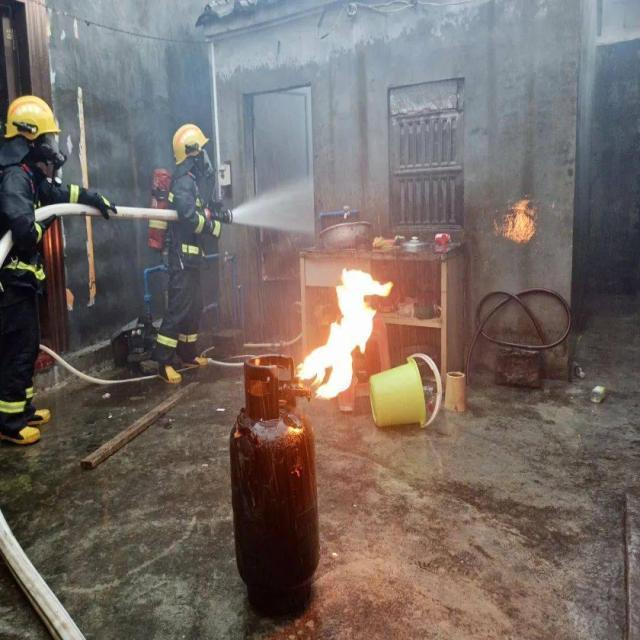Fire: (294, 266, 392, 402)
